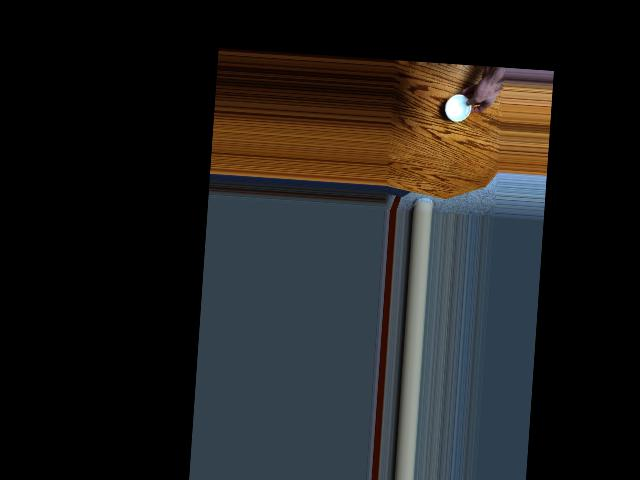cotage: (443, 86, 477, 123)
